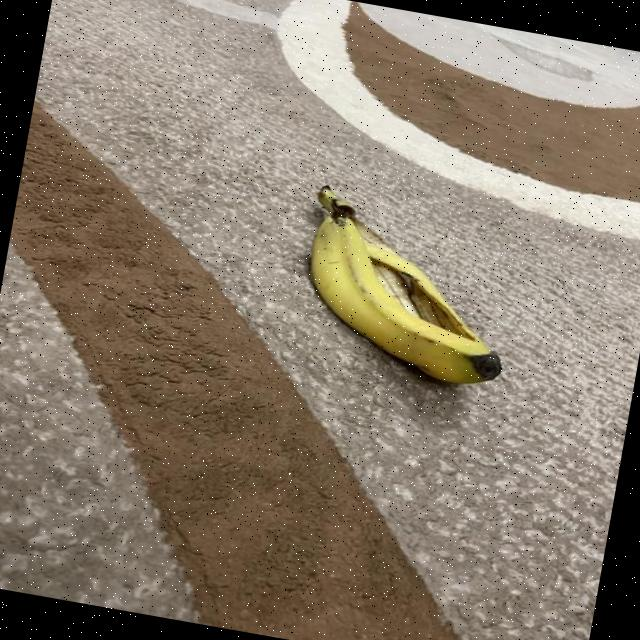banana-peel: (286, 182, 528, 392)
